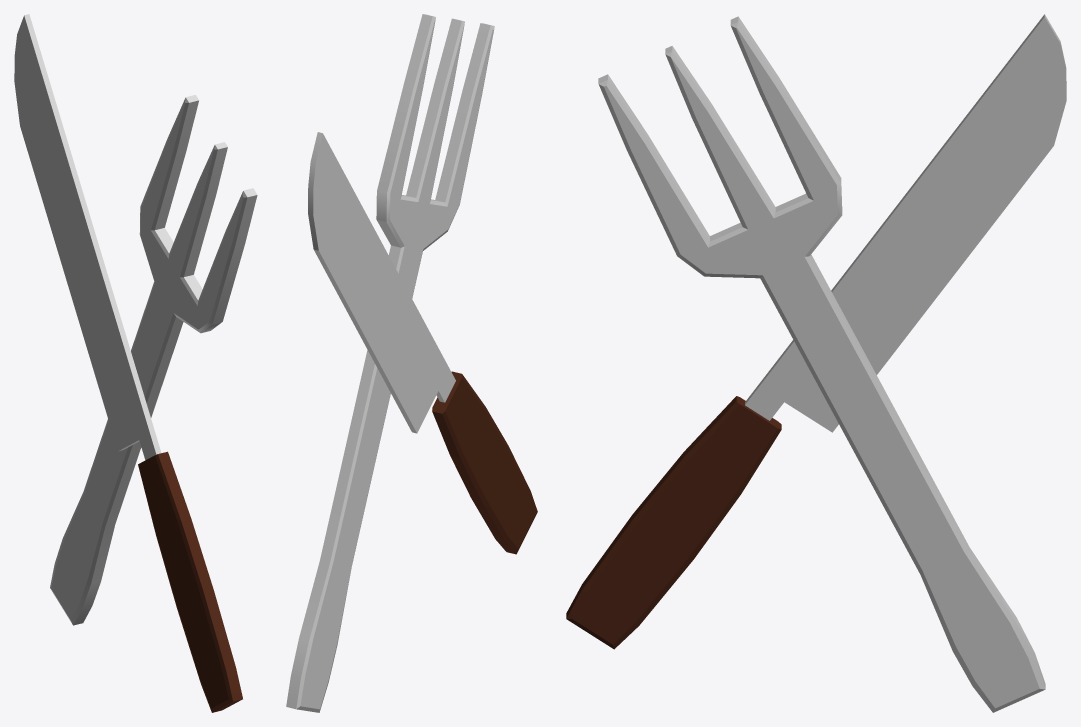
Rendered from Fork_and_Knife_Together.fbx.
3 views of the same model, side by side, from view 1: azimuth 30°, elevation 25°; view 2: azimuth 150°, elevation 25°; view 3: azimuth 270°, elevation 25° (orthographic). The views are drawn at different scales.
Parts seen in each view (by area): view 1: Knife, Fork; view 2: Fork, Knife; view 3: Fork, Knife.
Part boxes in pixels (x1,y1,x2,y2): Knife: (14, 14, 242, 712); Fork: (50, 95, 257, 625); Fork: (286, 14, 494, 712); Knife: (308, 132, 537, 554); Fork: (598, 16, 1045, 712); Knife: (566, 14, 1066, 649).
Bounding box in the file's own units: 0.989 × 13.88 × 9.11.
